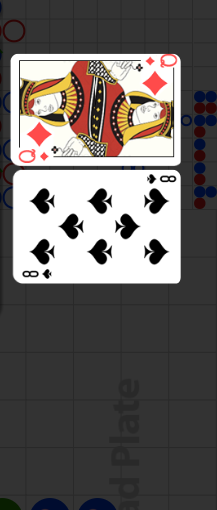8S: (21, 267, 55, 280)
9D: (144, 54, 179, 67)
QD: (134, 66, 181, 110), (14, 133, 60, 177)
